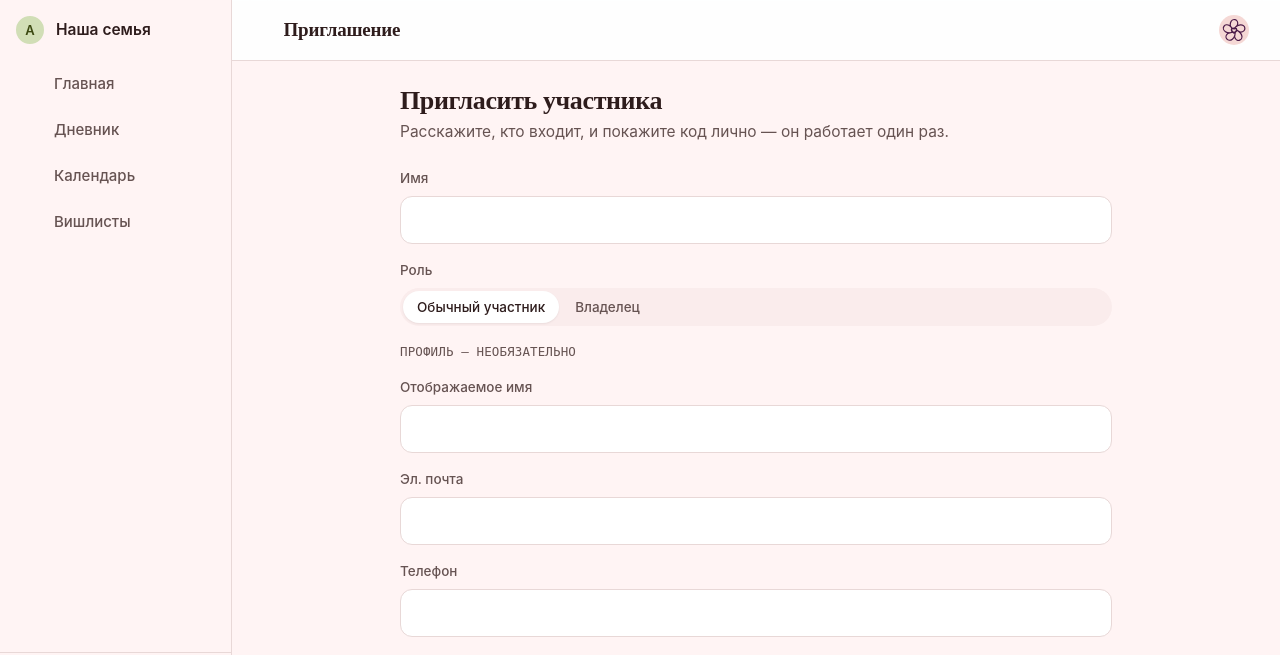
Test: InviteMemberScreen › backs to the members list from both steps
The width and height of the screenshot is (1280, 655).
Expected: the text "Приглашение" is shown, [284, 18, 400, 42]
Type "Дима" into the field labelled "Имя" at (756, 220), box [400, 196, 1112, 244]
(page scrolled)
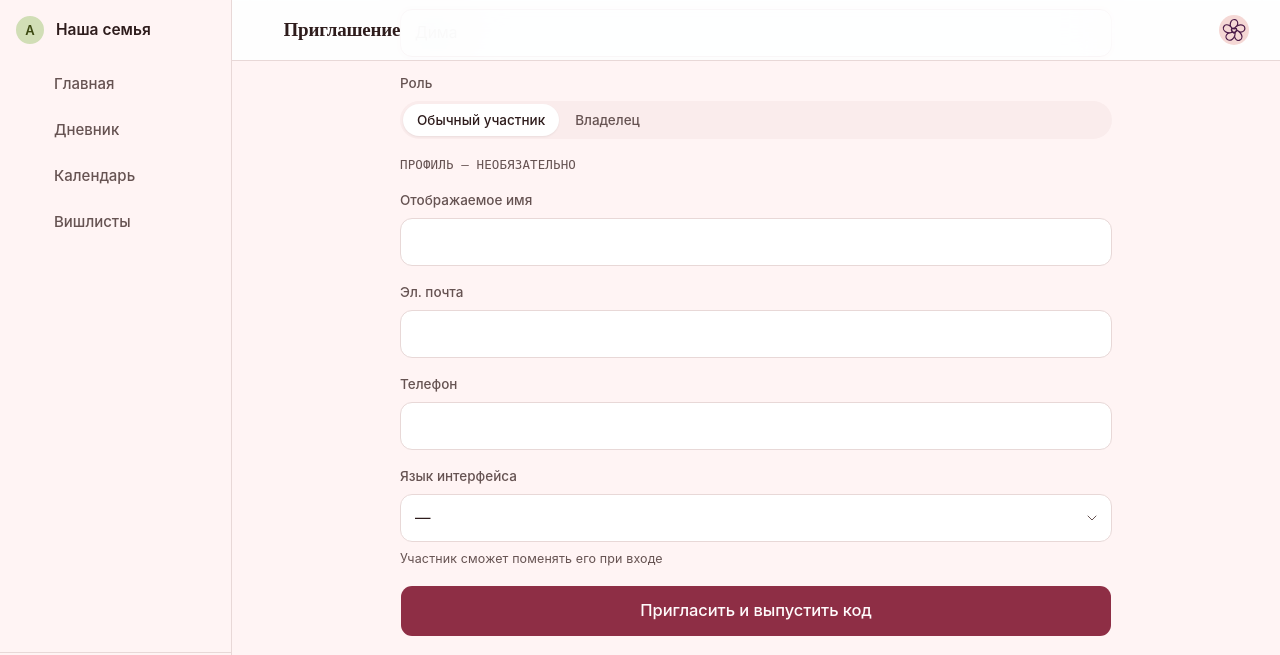
Click the button "Пригласить и выпустить код" at (756, 611), box [400, 585, 1112, 637]
(page scrolled)
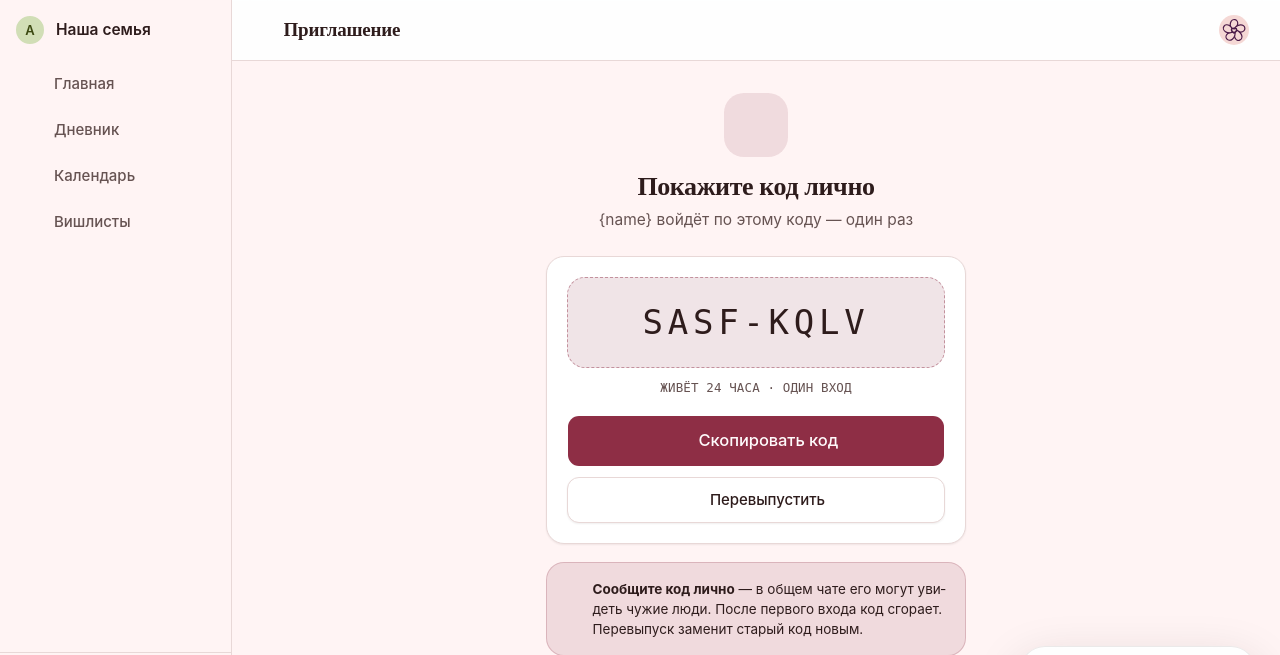
Expected: the text "Приглашение" is shown, [284, 18, 400, 42]
Now the text "SASF-KQLV" is shown, box [567, 277, 945, 368]
